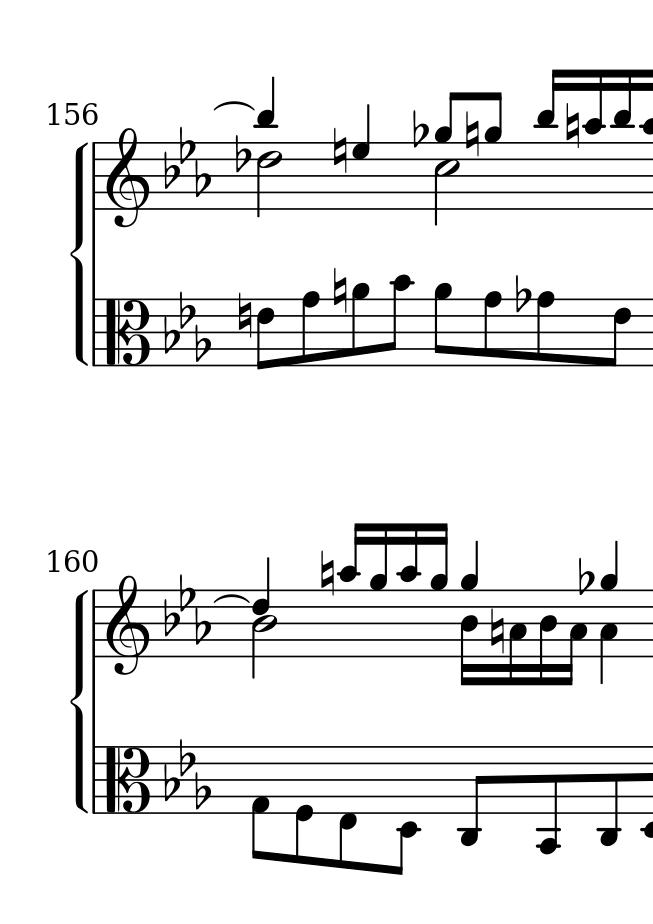0: (79, 548, 98, 576)
1: (46, 547, 60, 575), (46, 101, 61, 127)
16_-1: (339, 744, 357, 871)
16_-2: (393, 745, 422, 878)
16_0: (294, 745, 314, 867)
16_1: (251, 745, 271, 861)
16_10: (335, 521, 365, 657), (395, 522, 422, 658), (582, 68, 606, 211)
16_11: (534, 68, 562, 212), (610, 68, 635, 210)
16_3: (562, 588, 588, 688), (508, 587, 528, 687)
16_4: (458, 587, 479, 690), (537, 587, 558, 688)
16_9: (369, 522, 388, 658), (430, 522, 448, 658)
2_6: (256, 140, 281, 218)
4_7: (352, 103, 371, 210)
5: (62, 100, 81, 127)
6: (60, 546, 80, 575), (80, 101, 100, 127)
8_-3: (456, 745, 487, 848), (597, 748, 622, 848)
8_-4: (536, 742, 560, 857)
8_10: (384, 274, 413, 367)
8_6: (604, 297, 633, 369), (256, 298, 276, 373)
8_8: (482, 289, 503, 370), (535, 290, 556, 369), (300, 291, 321, 368)
8_9: (484, 91, 502, 212), (350, 282, 371, 370), (433, 282, 453, 368)
Brace: (69, 586, 91, 815), (72, 139, 92, 366)
Cclef: (102, 296, 150, 367), (103, 744, 151, 814)
E_F: (162, 126, 212, 199), (162, 738, 211, 809), (164, 572, 211, 646), (163, 292, 211, 361)
Flat: (513, 273, 530, 314), (411, 107, 427, 149), (577, 555, 593, 596), (234, 134, 249, 174)
Gclef: (106, 124, 148, 229), (106, 572, 148, 676)
Natural: (319, 547, 336, 599), (464, 109, 481, 160), (565, 100, 582, 150), (331, 266, 348, 316), (488, 606, 505, 655), (332, 126, 348, 176), (237, 292, 253, 339)
Single_barline: (87, 297, 101, 367), (87, 745, 101, 814), (88, 144, 102, 209), (88, 591, 102, 656)
Slur: (213, 591, 250, 605), (216, 100, 253, 112)
